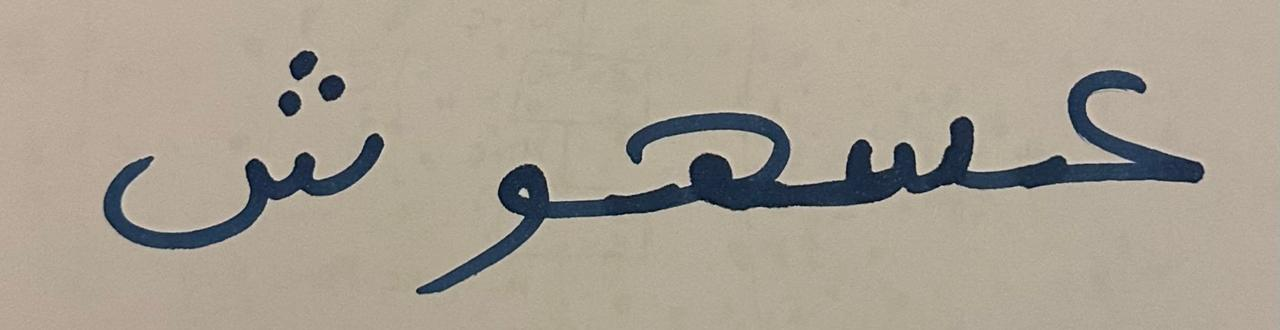ain: (1009, 12, 1251, 251)
jeem: (583, 10, 807, 267)
sheen: (811, 10, 1006, 245)
tah: (58, 4, 398, 289)
yeh: (403, 88, 579, 316)
